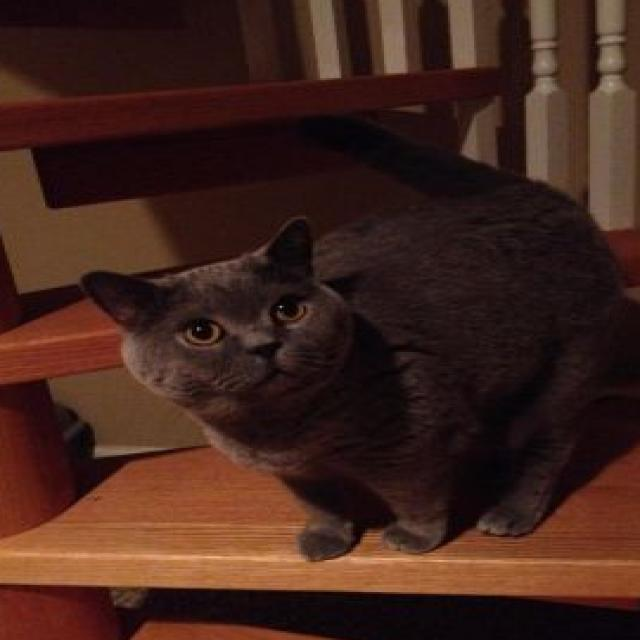British Shorthair: (77, 109, 634, 565)
